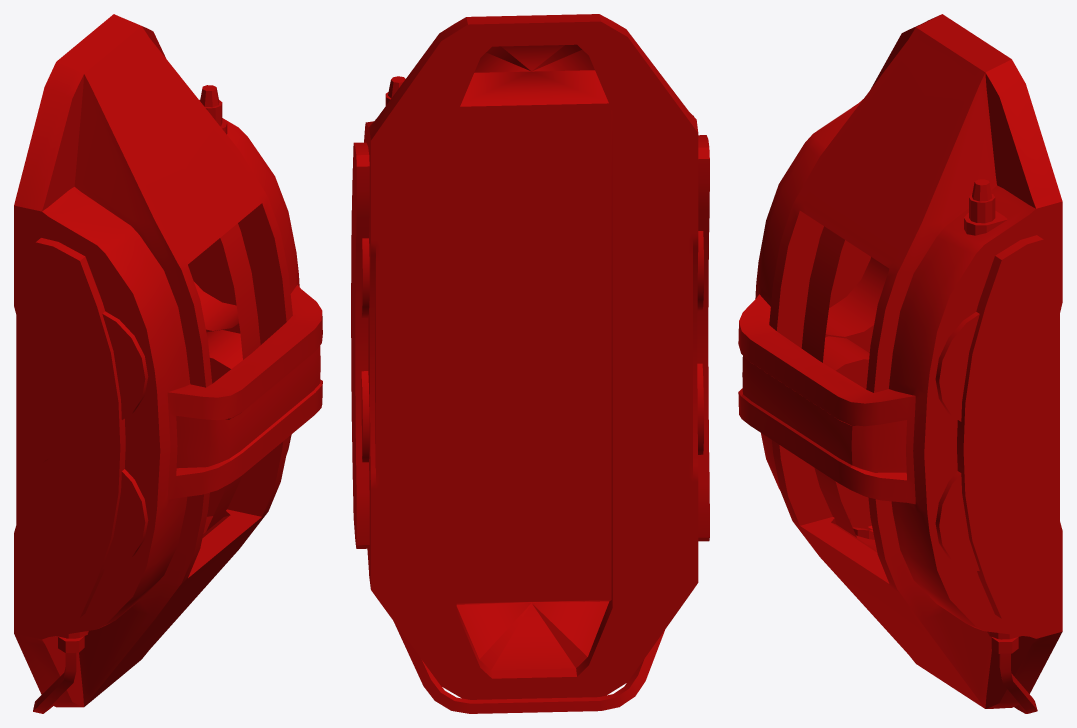
The model's file is wheel1_red_0.glb.
3 views of the same model, side by side, from view 1: azimuth 30°, elevation 25°; view 2: azimuth 150°, elevation 25°; view 3: azimuth 270°, elevation 25° (orthographic). The views are drawn at different scales.
Visible parts, largest first — view 1: wheel1_red_0; view 2: wheel1_red_0; view 3: wheel1_red_0.
Boxes of the visible parts, bbox=[...] form: wheel1_red_0: bbox=[14, 14, 322, 713]; wheel1_red_0: bbox=[351, 14, 709, 713]; wheel1_red_0: bbox=[738, 14, 1062, 713].
Size of the model in its own units: 0.1964 by 0.4008 by 0.1803.
